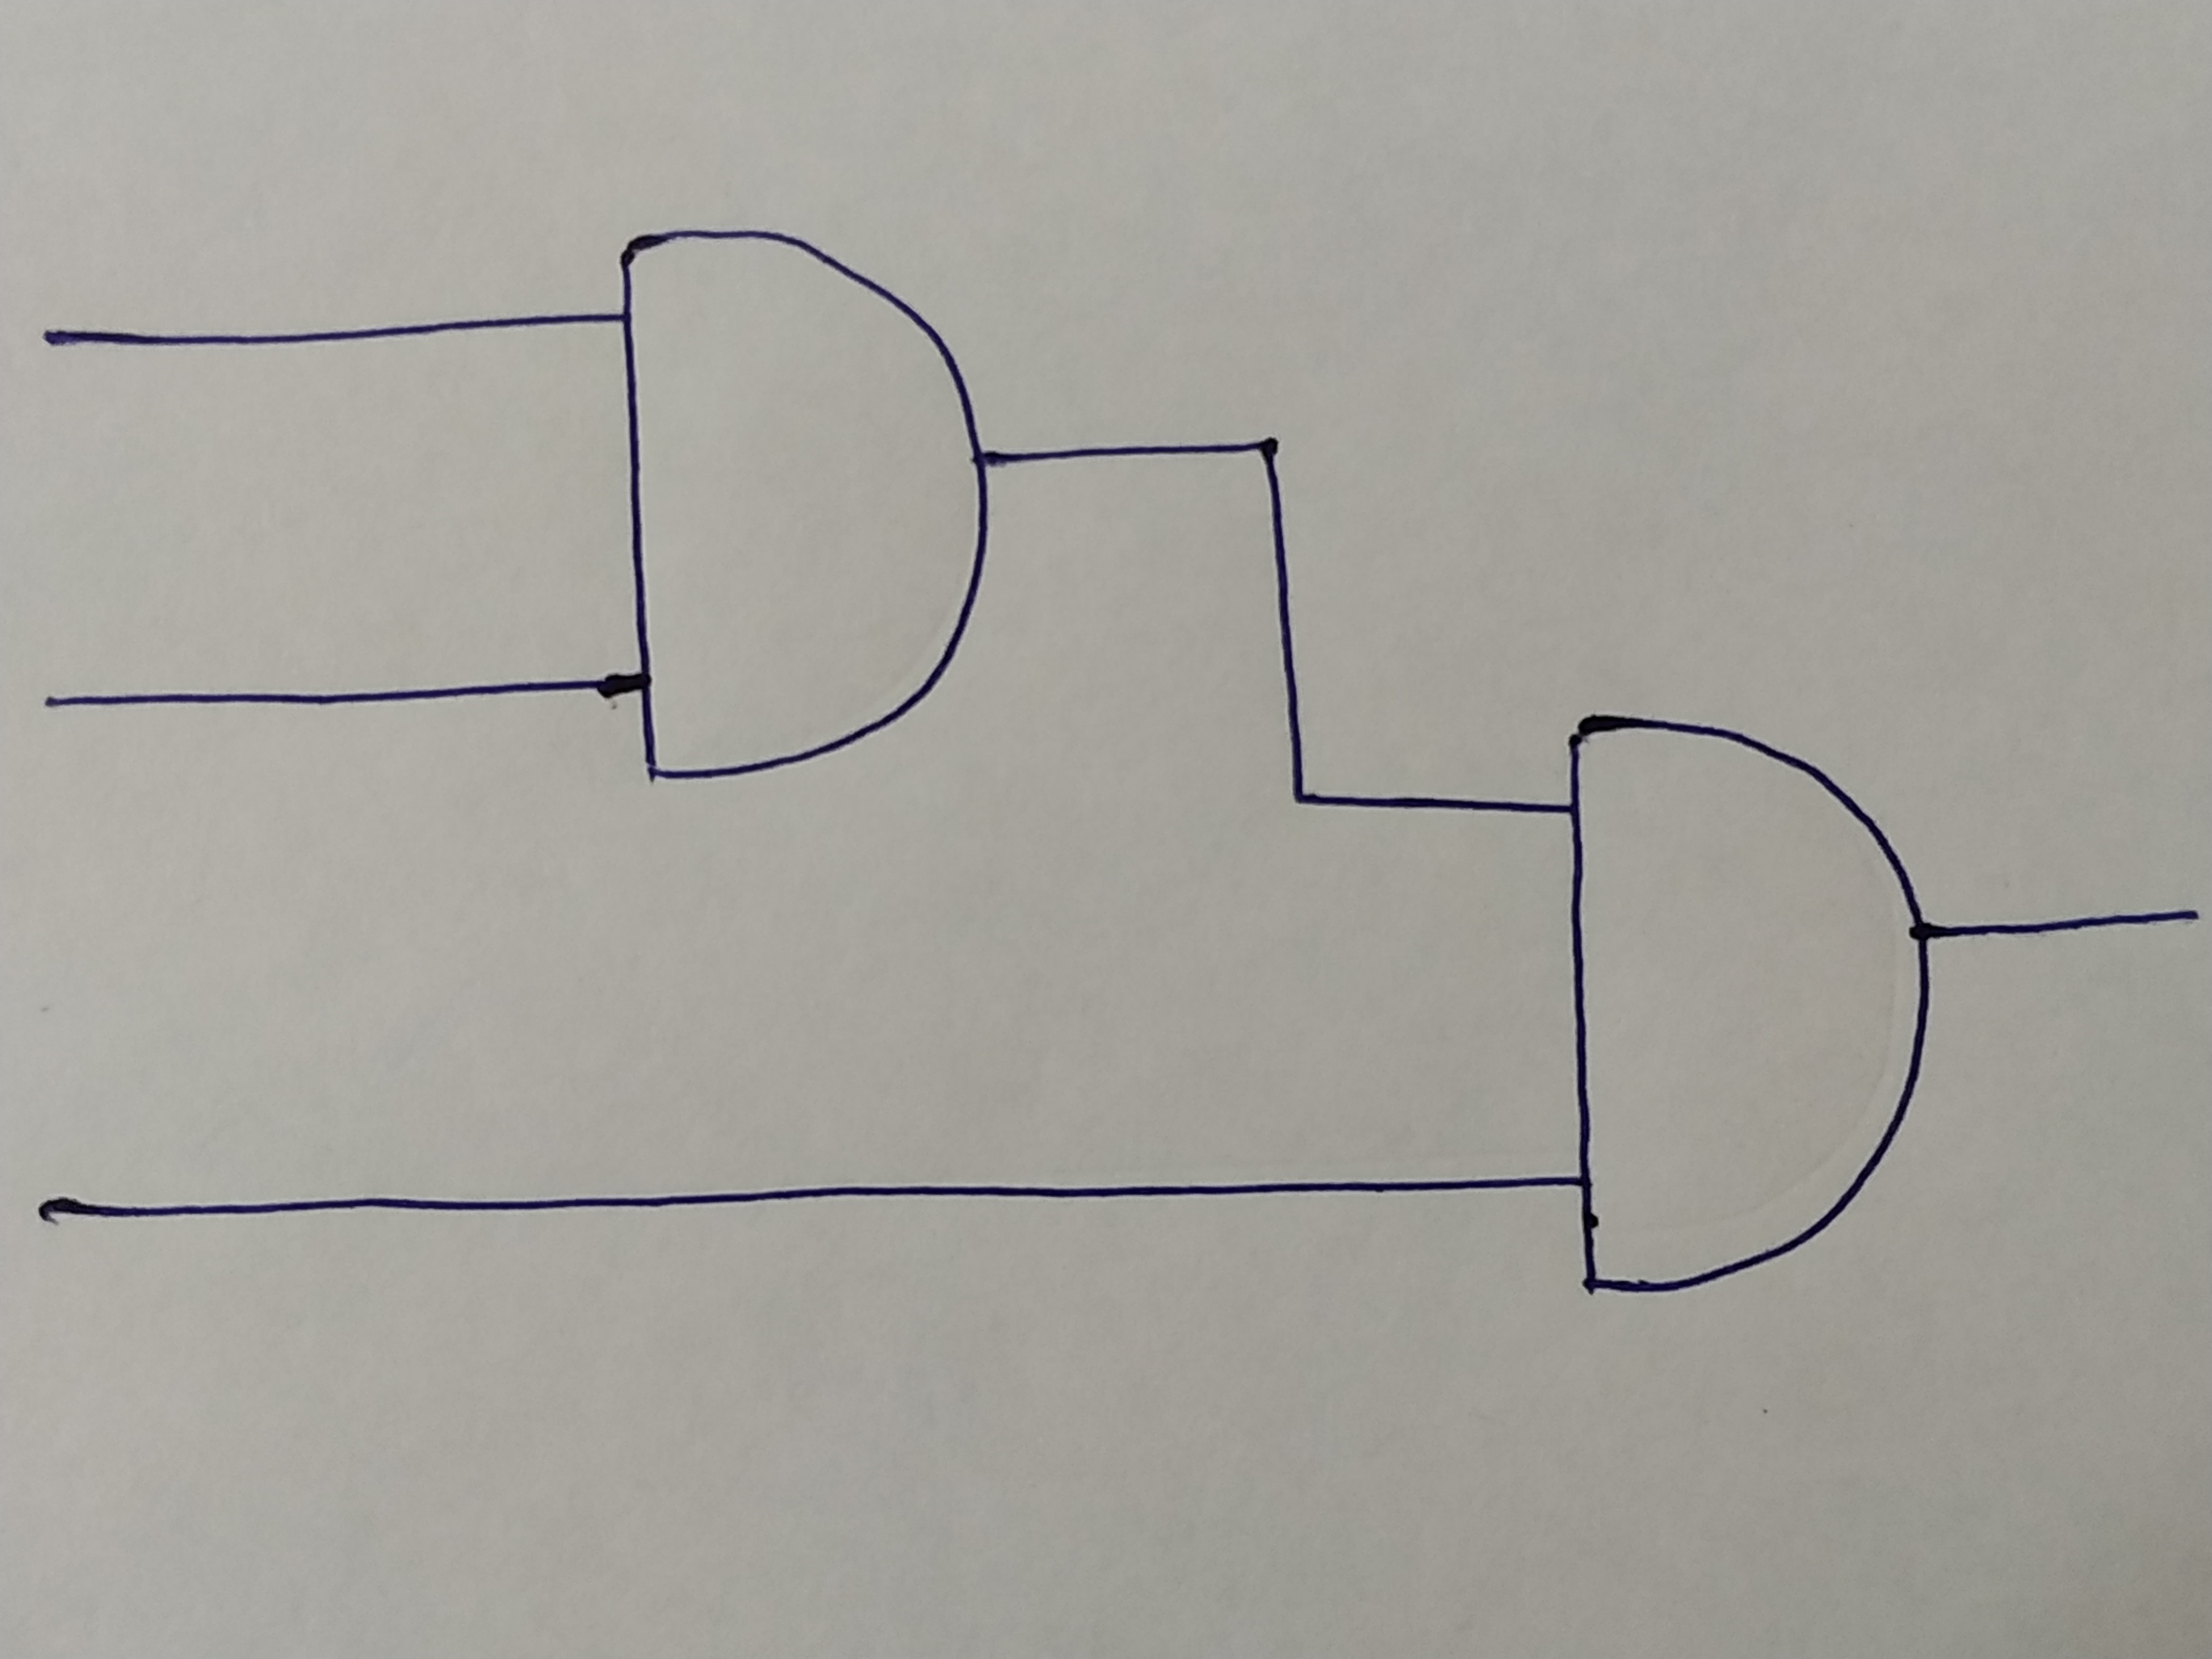and: (1564, 718, 1928, 1286), (618, 230, 982, 772)
